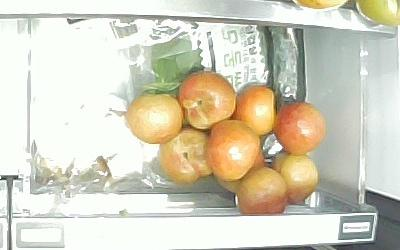prune: (180, 71, 237, 132), (208, 121, 260, 183), (126, 89, 183, 144), (159, 129, 214, 184), (274, 101, 326, 157), (237, 166, 288, 215), (272, 151, 319, 204), (237, 83, 279, 136)
